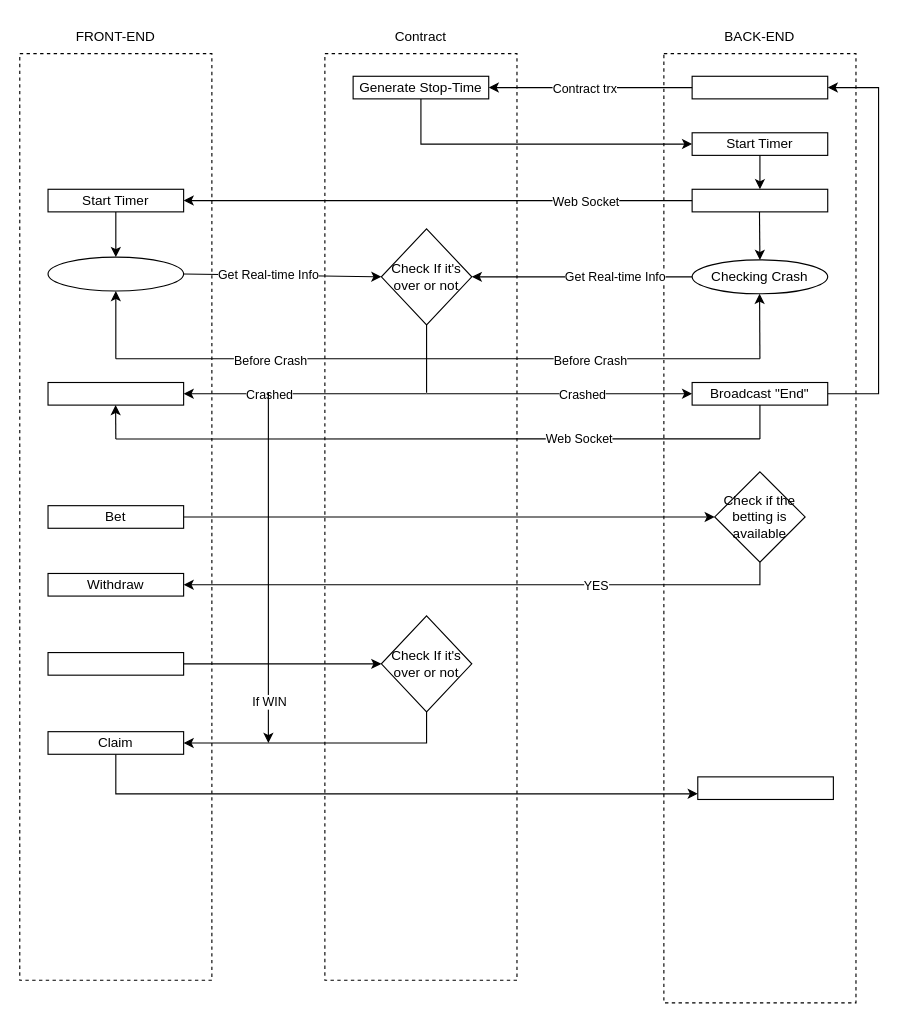
Image size: 907x1023. Some labels were removed from this diagram. The shapes that lost their labels are listed below. From the top down, each one's centre as x and y in pixels, then its label:
[759,87]: Request RNG
[759,200]: Broadcast "Start"
[115,273]: Display Chart
[115,393]: End Chart
[115,663]: Manual Claim
[765,787]: Save History
